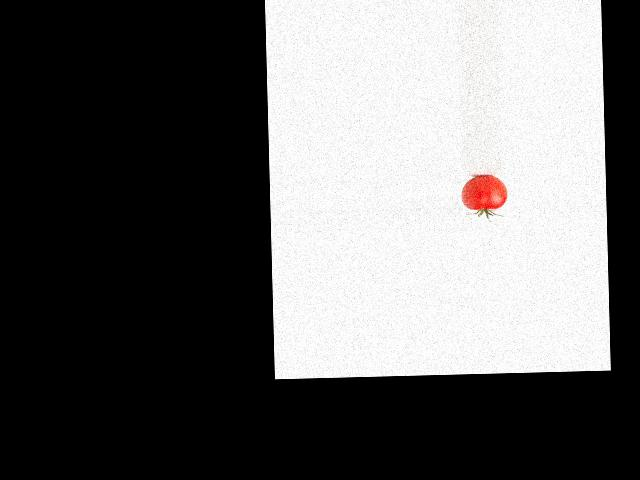tomato: (461, 175, 508, 210)
